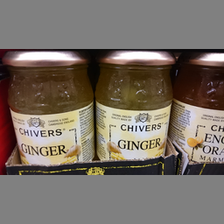jam: (2, 50, 95, 165), (96, 51, 177, 162), (170, 50, 224, 162)
